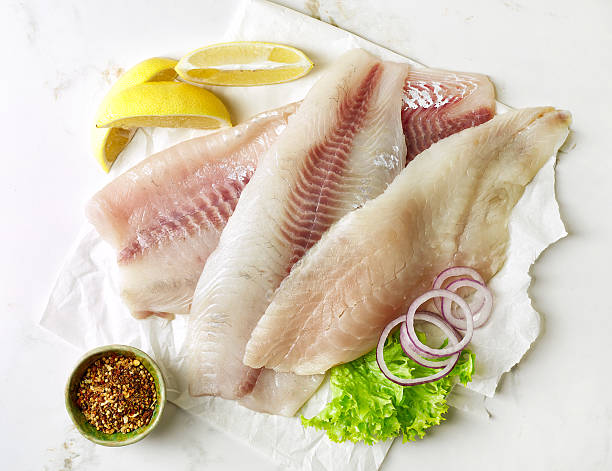bream-fish: (242, 106, 574, 377), (183, 51, 413, 401)
